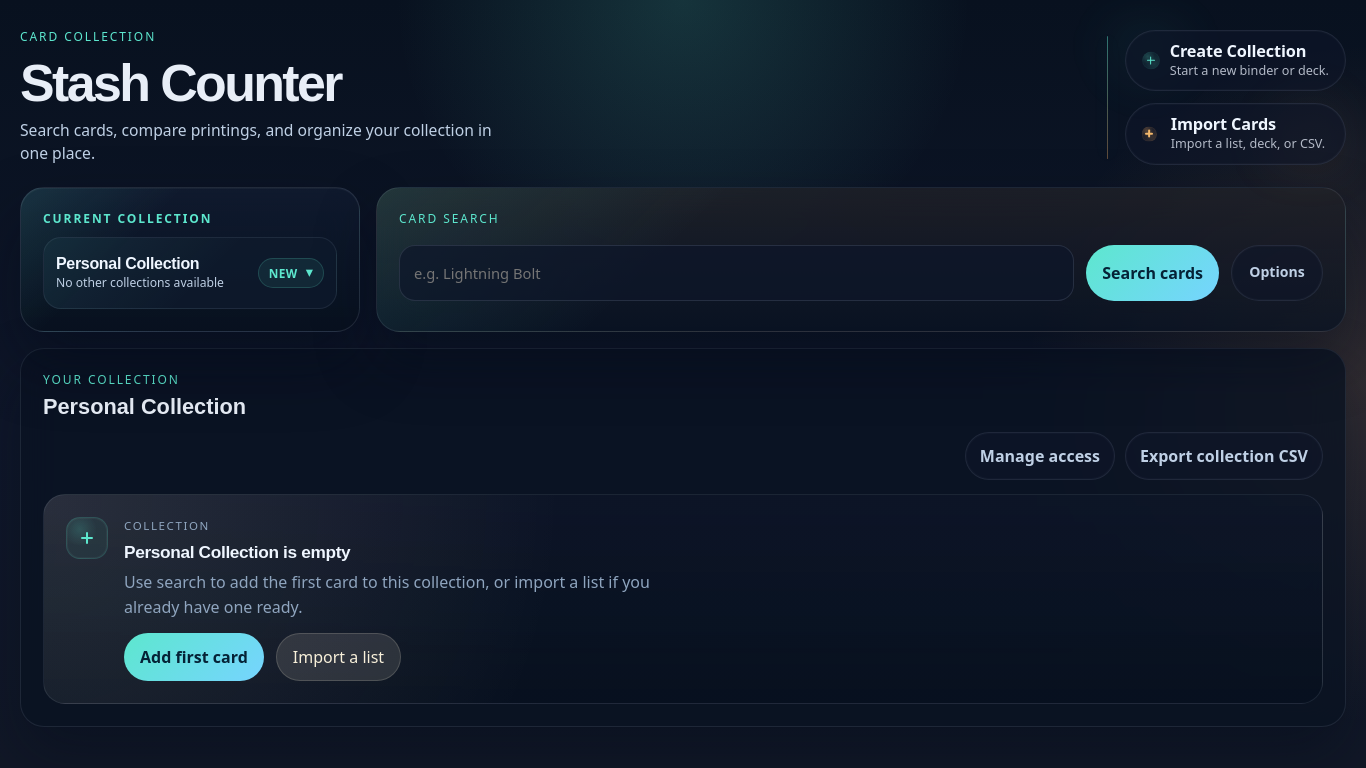
Test: App › shows default-printing thumbnails in autocomplete suggestions
Type "Fo" into the dropdown named "Quick Add and Card Search" at point(737, 273), box left=399, top=245, right=1074, bottom=301
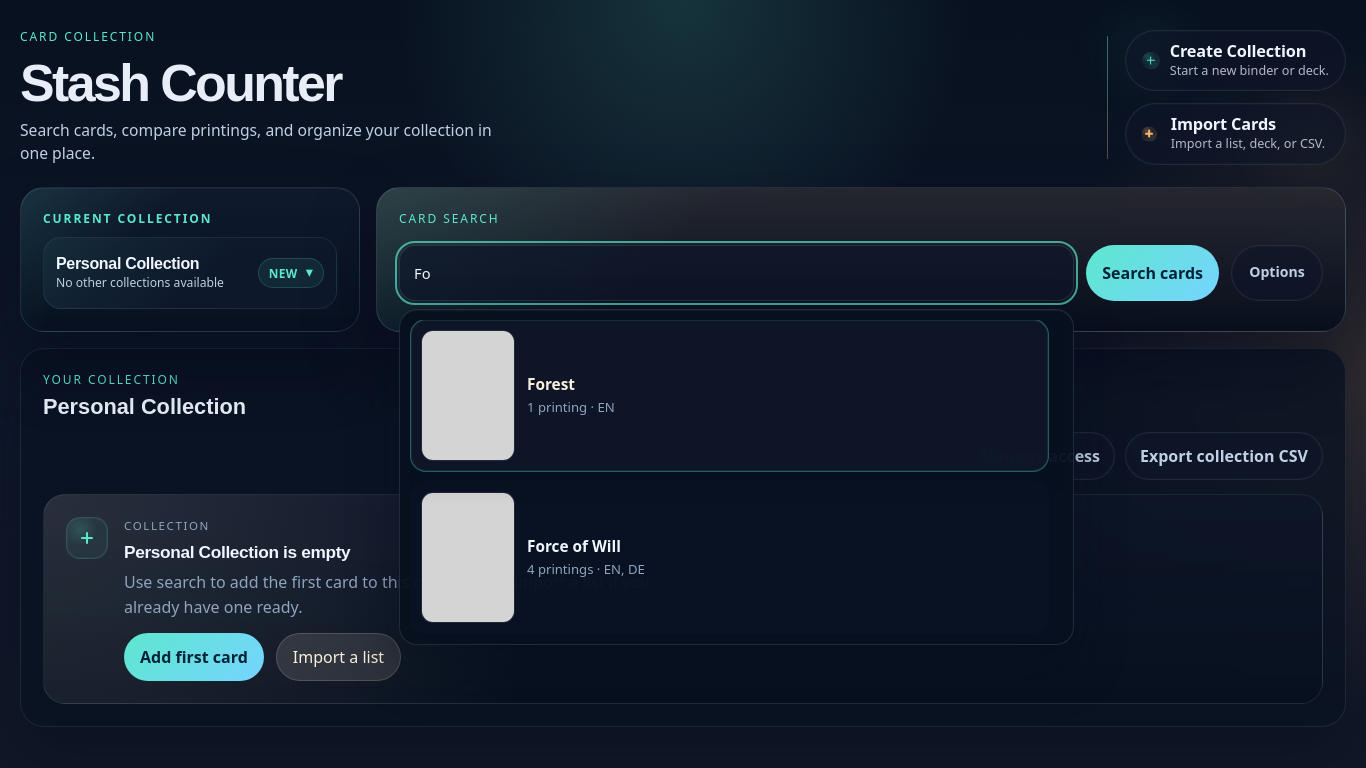
Check: the list named "Card suggestions" is shown, box left=399, top=309, right=1074, bottom=645
